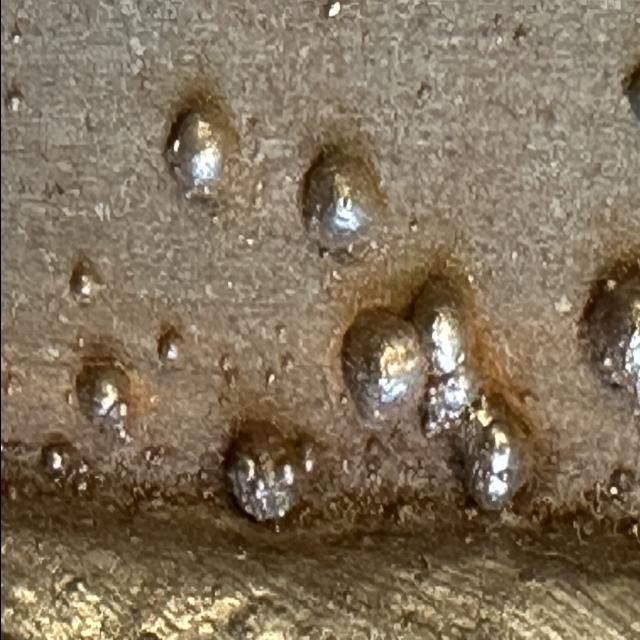Spatters: (341, 312, 425, 422), (225, 422, 315, 522), (454, 393, 530, 510), (302, 152, 384, 250), (581, 272, 640, 408), (164, 100, 238, 198), (412, 278, 465, 377), (422, 365, 476, 438), (75, 365, 128, 418), (41, 443, 90, 493), (69, 260, 105, 303), (422, 377, 450, 432), (158, 327, 182, 362), (41, 447, 68, 475), (220, 355, 236, 388), (512, 23, 528, 47), (365, 437, 384, 455), (5, 95, 20, 112), (281, 353, 294, 372), (326, 0, 339, 18), (275, 325, 286, 345), (118, 403, 126, 417), (266, 372, 274, 385), (118, 428, 125, 438)
